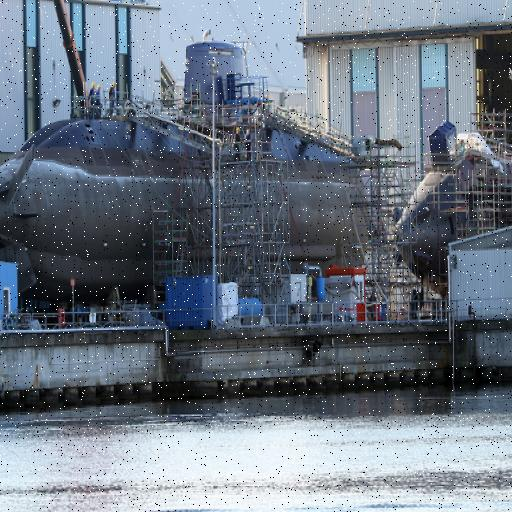submarine: (1, 107, 377, 298), (390, 113, 512, 295)
